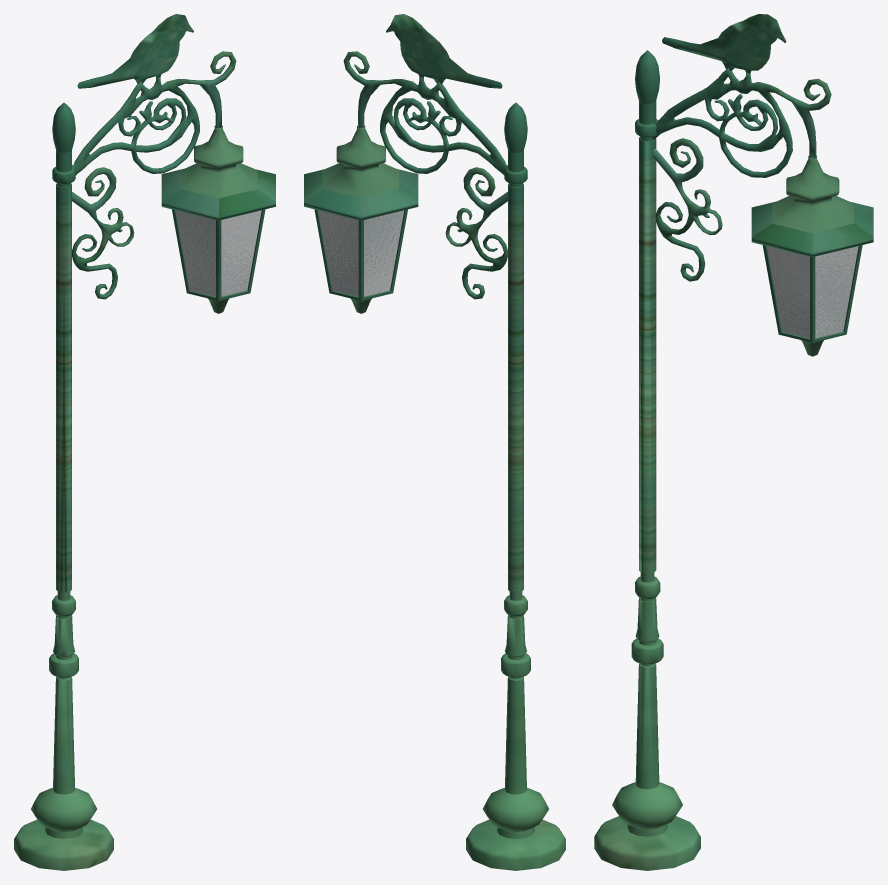
The model's file is lamparaPublica2.obj.
3 renders of one model, left to right at view 1: azimuth 30°, elevation 25°; view 2: azimuth 150°, elevation 25°; view 3: azimuth 330°, elevation 25°, orthographic. The views are drawn at different scales.
Parts seen in each view (by area): view 1: lamparaPublica2.002_lamparatexture.001, lamparaPublica2.001_lamparatexture.001; view 2: lamparaPublica2.002_lamparatexture.001, lamparaPublica2.001_lamparatexture.001; view 3: lamparaPublica2.002_lamparatexture.001, lamparaPublica2.001_lamparatexture.001.
Boxes of the visible parts, x1,y1,x2,y2 form: lamparaPublica2.002_lamparatexture.001: [14, 14, 275, 870]; lamparaPublica2.001_lamparatexture.001: [175, 210, 261, 296]; lamparaPublica2.002_lamparatexture.001: [304, 14, 565, 870]; lamparaPublica2.001_lamparatexture.001: [318, 210, 404, 296]; lamparaPublica2.002_lamparatexture.001: [594, 14, 873, 870]; lamparaPublica2.001_lamparatexture.001: [766, 246, 858, 338].
Bounding box in the file's own units: 8.08 × 24.47 × 3.14.
